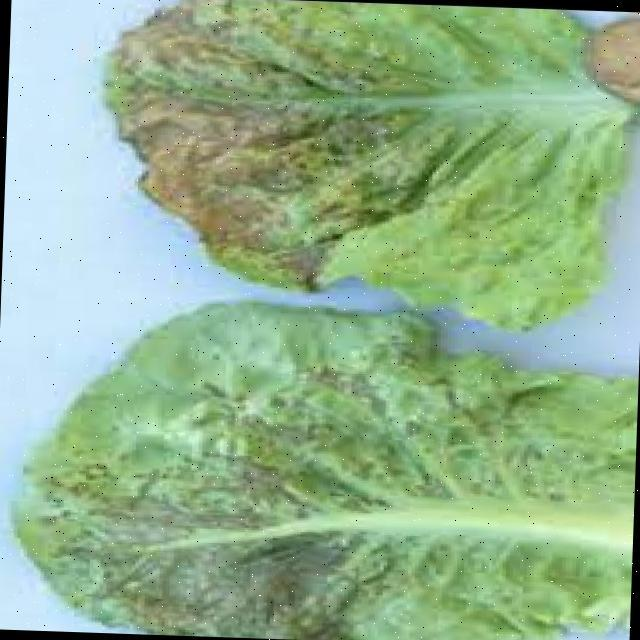Powdery_Mildew: (68, 376, 597, 628), (204, 9, 566, 253)
